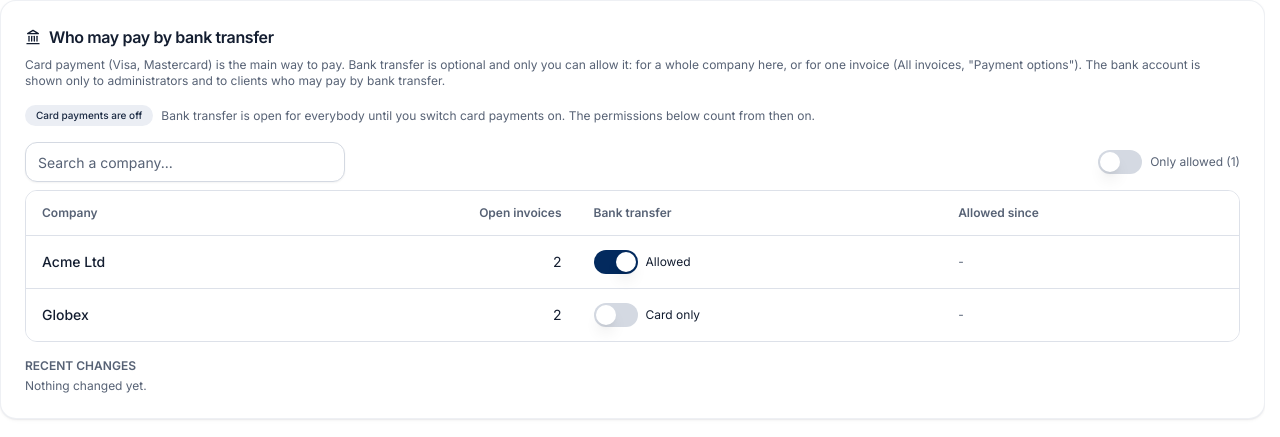
Test: BankTransferSettingsCard › shows only the allowed companies on request
Click the switch named "Show only the allowed companies".
click(1120, 162)  # box 1098,150 -> 1142,174
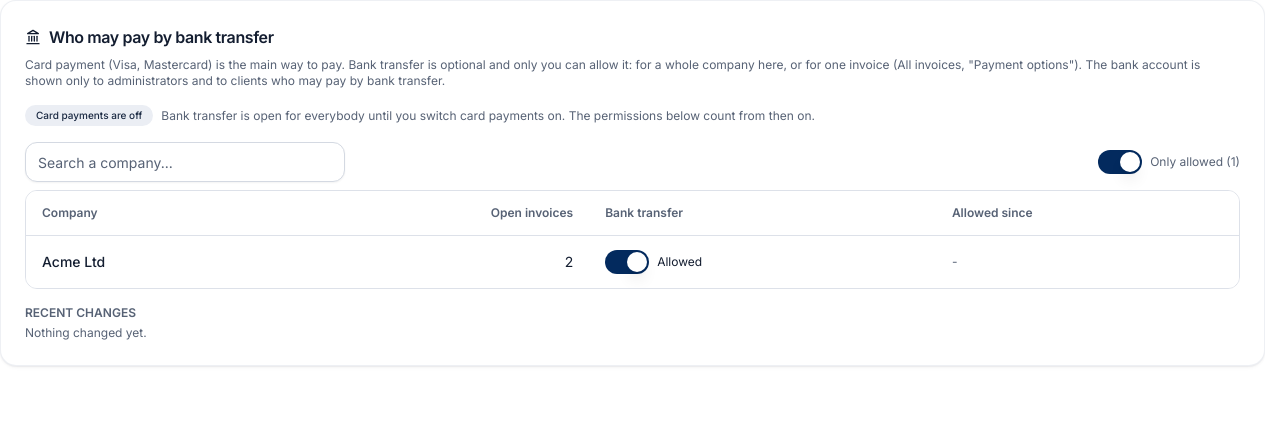
Expected: the text "Acme Ltd" is shown, 26,235 -> 282,288
Expected: the text "Globex" is gone
